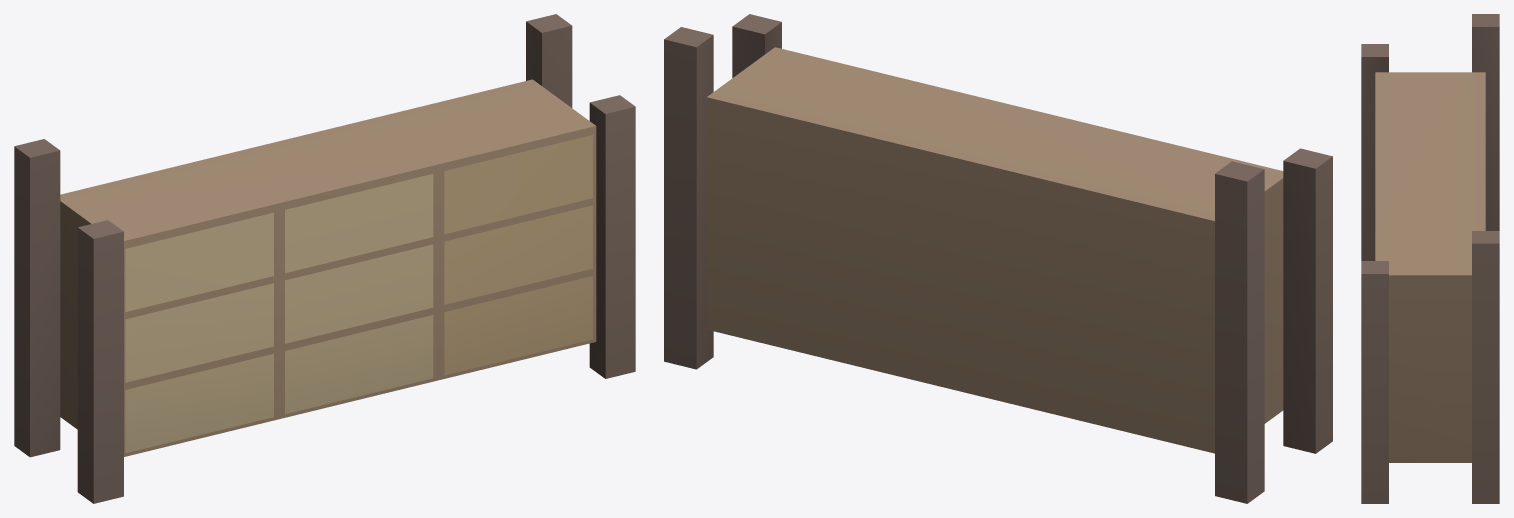
File: cordwood.lod2.glb
3 renders of one model, left to right at view 1: azimuth 30°, elevation 25°; view 2: azimuth 150°, elevation 25°; view 3: azimuth 270°, elevation 25°, orthographic. The views are drawn at different scales.
Bounding box in the file's own units: 1.97 × 1.04 × 0.5.
